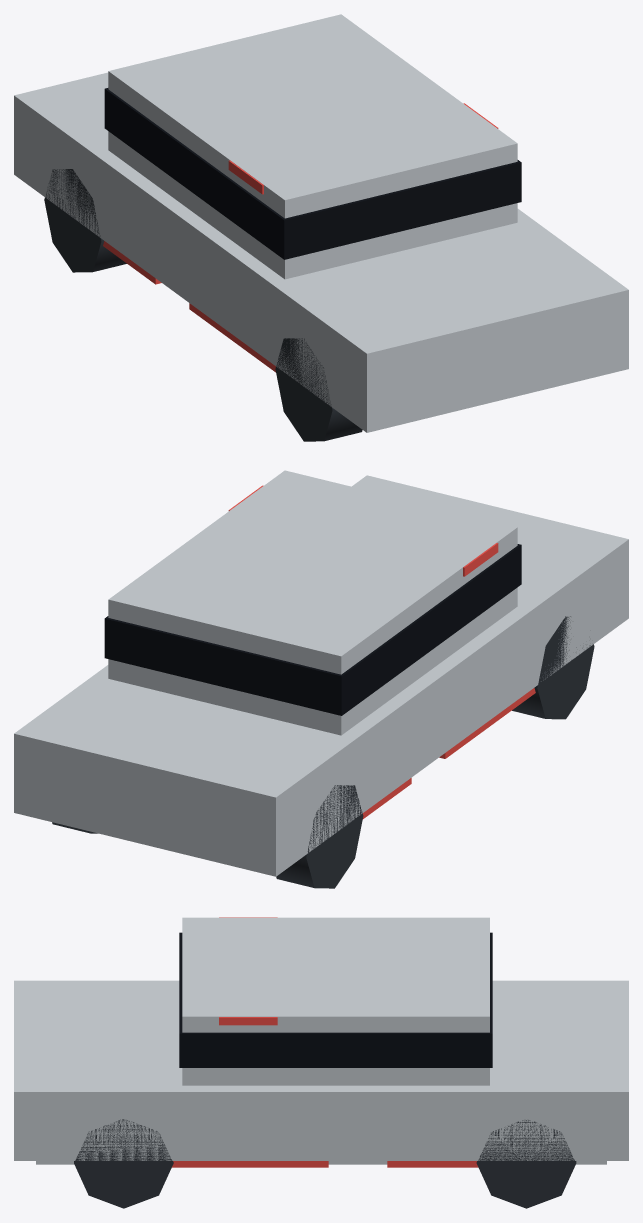
The model's file is stalled-car.glb.
The picture shows the model from 3 angles, top to bottom: view 1: azimuth 30°, elevation 25°; view 2: azimuth 150°, elevation 25°; view 3: azimuth 270°, elevation 25°; orthographic projection. The views are drawn at different scales.
Visible parts, largest first — view 1: car_chassis, car_cabin, car_nose, car_window_band, wheel_1, wheel_3, hazard_flank_stripe; view 2: car_chassis, car_cabin, car_window_band, wheel_3, car_nose, wheel_1, hazard_flank_stripe; view 3: car_chassis, car_cabin, car_window_band, car_nose, wheel_2, wheel_4, hazard_flank_stripe (×2), hazard_roof_stripe, car_skirt.
Part boxes in pixels (left/top/right/bottom): car_chassis: left=14, top=72, right=628, bottom=432; car_cabin: left=108, top=14, right=517, bottom=279; car_nose: left=285, top=227, right=618, bottom=349; car_window_band: left=104, top=88, right=521, bottom=259; wheel_1: left=275, top=338, right=362, bottom=441; wheel_3: left=44, top=169, right=126, bottom=272; hazard_flank_stripe: left=189, top=303, right=275, bottom=372; car_chassis: left=14, top=475, right=628, bottom=876; car_cabin: left=108, top=470, right=517, bottom=735; car_window_band: left=104, top=544, right=521, bottom=715; wheel_3: left=276, top=785, right=363, bottom=888; car_nose: left=360, top=481, right=617, bottom=599; wheel_1: left=512, top=616, right=594, bottom=719; hazard_flank_stripe: left=439, top=688, right=535, bottom=758; car_chassis: left=14, top=980, right=628, bottom=1160; car_cabin: left=182, top=917, right=489, bottom=1085; car_window_band: left=179, top=932, right=492, bottom=1067; car_nose: left=21, top=983, right=167, bottom=1058; wheel_2: left=74, top=1119, right=173, bottom=1208; wheel_4: left=476, top=1120, right=576, bottom=1208; hazard_flank_stripe (×2): left=172, top=1161, right=478, bottom=1167; hazard_roof_stripe: left=219, top=917, right=277, bottom=1025; car_skirt: left=36, top=1161, right=606, bottom=1164.
Size of the model in its own units: 1.8 by 1.4 by 4.2.
